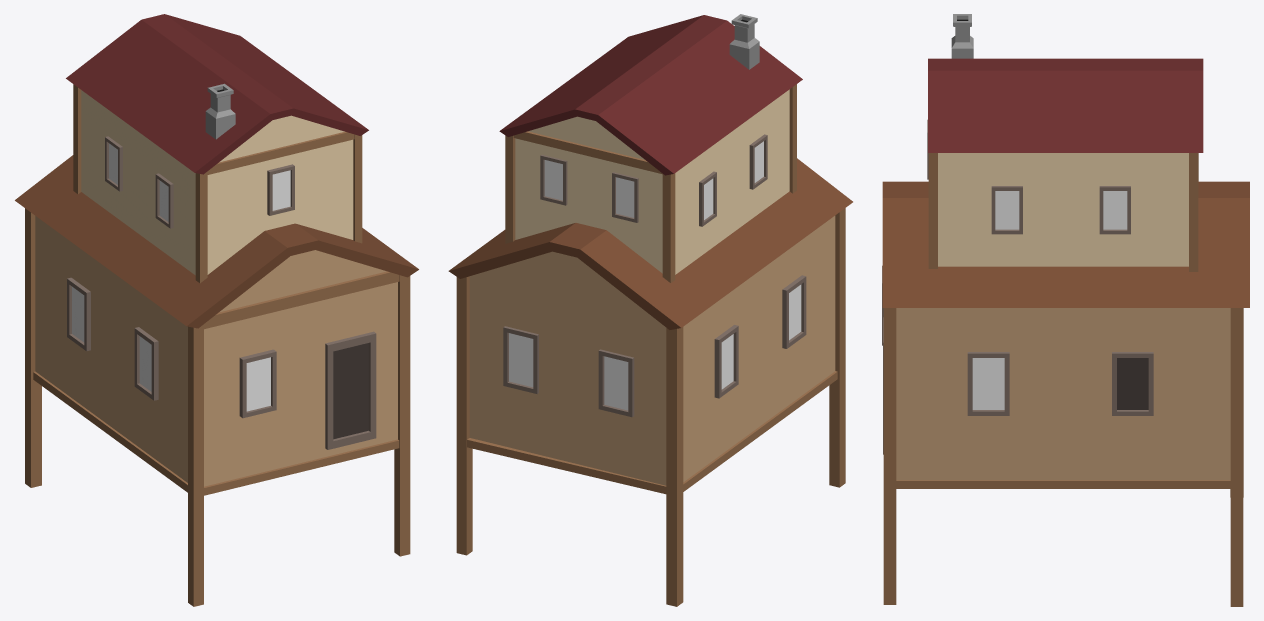
Rendered from M_House_Building_11.fbx.
The picture shows the model from 3 angles, left to right: view 1: azimuth 30°, elevation 25°; view 2: azimuth 150°, elevation 25°; view 3: azimuth 270°, elevation 25°; orthographic projection. The views are drawn at different scales.
Visible parts, largest first — view 1: M_House_Building_11; view 2: M_House_Building_11; view 3: M_House_Building_11.
Part boxes in pixels (bbox=[...]): M_House_Building_11: bbox=[15, 14, 418, 606]; M_House_Building_11: bbox=[448, 14, 852, 606]; M_House_Building_11: bbox=[882, 14, 1249, 606].
Size of the model in its own units: 446 by 870 by 572.
